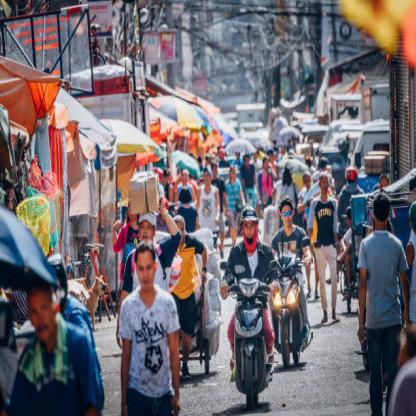Motorcycle: (216, 252, 280, 413), (265, 246, 308, 369)
